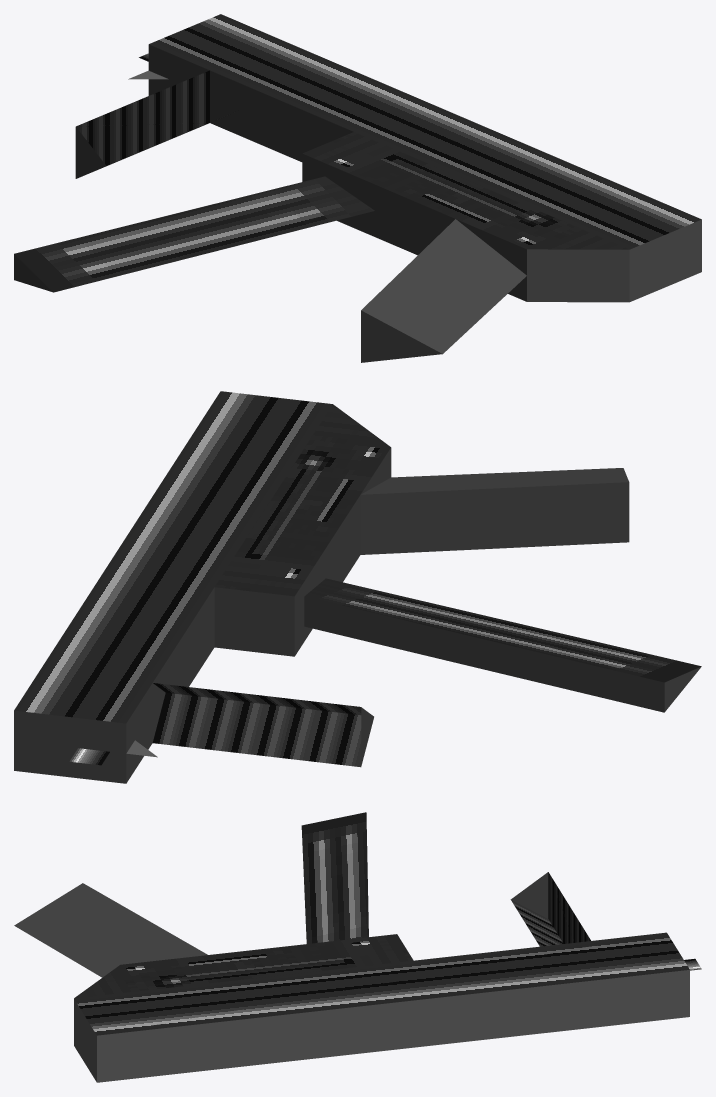
Rendered from depot_dk5_primary.glb.
3 renders of one model, top to bottom at view 1: azimuth 30°, elevation 25°; view 2: azimuth 150°, elevation 25°; view 3: azimuth 270°, elevation 25°, orthographic. The views are drawn at different scales.
Parts seen in each view (by area): view 1: Object; view 2: Object; view 3: Object.
Boxes of the visible parts, box(x1,y1,x2,y2) form: Object: box(14, 14, 701, 362); Object: box(14, 391, 701, 783); Object: box(14, 812, 701, 1082).
Size of the model in its own units: 0.4354 by 0.0407 by 0.5381.
Materials: 14 (14 with a texture image).
